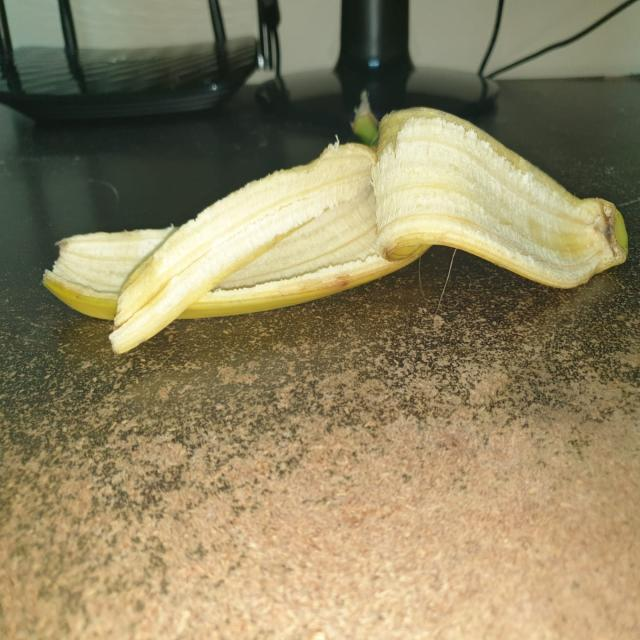banana-peel: (42, 101, 628, 355)
